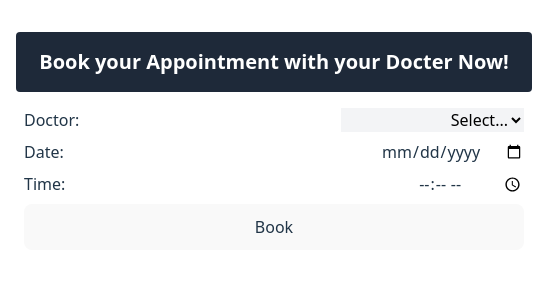
AppointmentBooking › shows error on missing fields
This screenshot has width=549, height=281.
Click the button with test id "book-btn".
click(274, 227)  # box [24,204,524,250]
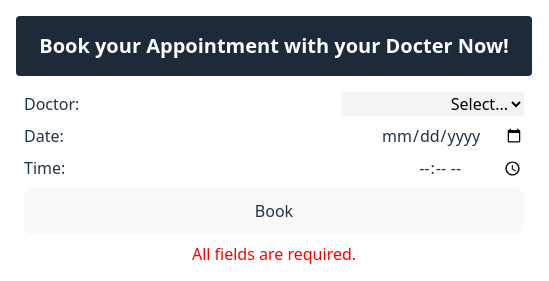
Result: the message "All fields are required." is shown at [192,243,356,265]
